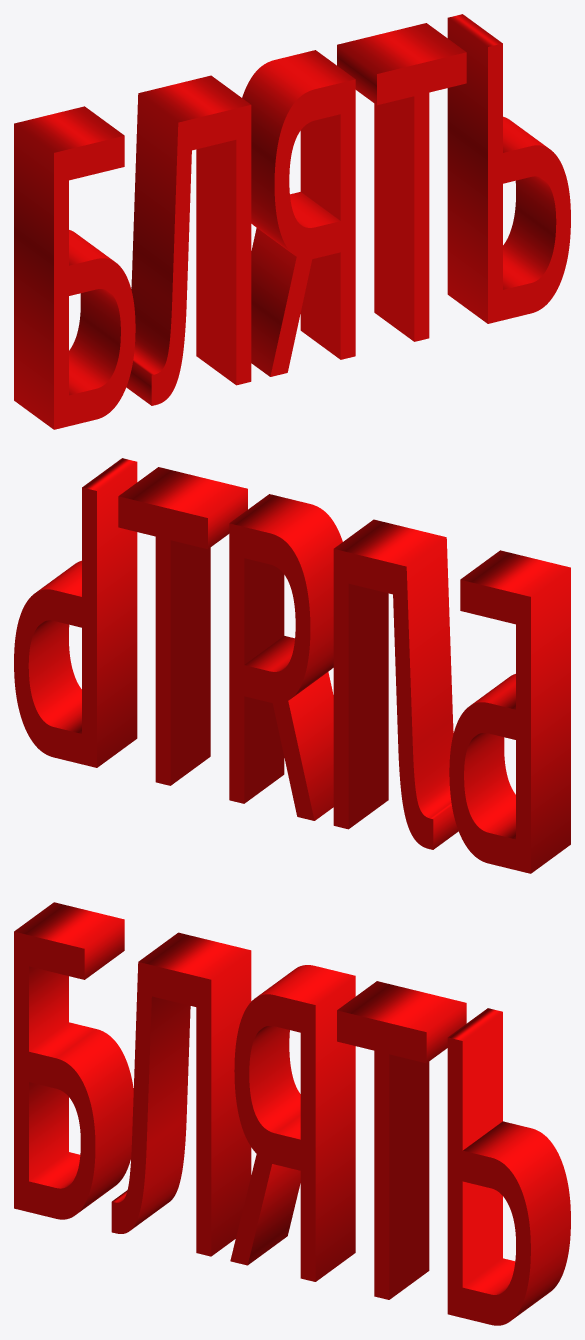
Rendered from блять.fbx.
3 views of the same model, one above another, from view 1: azimuth 30°, elevation 25°; view 2: azimuth 150°, elevation 25°; view 3: azimuth 330°, elevation 25° (orthographic).
Parts seen in each view (by area): view 1: Text; view 2: Text; view 3: Text.
Boxes of the visible parts, <box> form: Text: <box>14,14,570,429</box>; Text: <box>14,458,570,873</box>; Text: <box>14,902,570,1325</box>.
Size of the model in its own units: 283 by 145 by 38.
